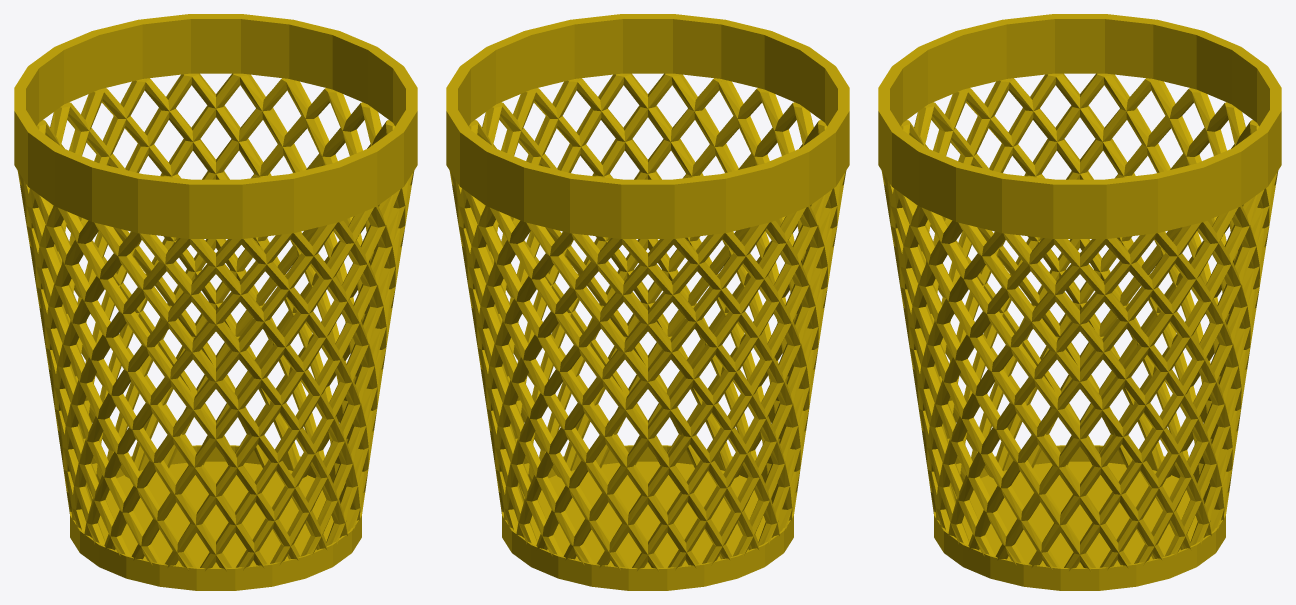
The picture shows the model from 3 angles, left to right: view 1: azimuth 30°, elevation 25°; view 2: azimuth 150°, elevation 25°; view 3: azimuth 270°, elevation 25°; orthographic projection.
Parts seen in each view (by area): view 1: mesh146.001_mesh146-geometry, mesh1.001_mesh1-geometry, mesh98.001_mesh98-geometry, mesh2.001_mesh2-geometry, mesh74.001_mesh74-geometry, mesh14.001_mesh14-geometry, mesh92.001_mesh92-geometry, mesh26.001_mesh26-geometry, mesh86.001_mesh86-geometry, mesh8.001_mesh8-geometry, mesh80.001_mesh80-geometry, mesh62.001_mesh62-geometry (+34 smaller); view 2: mesh146.001_mesh146-geometry, mesh1.001_mesh1-geometry, mesh39.001_mesh39-geometry, mesh135.001_mesh135-geometry, mesh33.001_mesh33-geometry, mesh117.001_mesh117-geometry, mesh69.001_mesh69-geometry, mesh81.001_mesh81-geometry, mesh128.001_mesh128-geometry, mesh21.001_mesh21-geometry, mesh122.001_mesh122-geometry, mesh27.001_mesh27-geometry (+34 smaller); view 3: mesh146.001_mesh146-geometry, mesh1.001_mesh1-geometry, mesh45.001_mesh45-geometry, mesh141.001_mesh141-geometry, mesh56.001_mesh56-geometry, mesh111.001_mesh111-geometry, mesh123.001_mesh123-geometry, mesh63.001_mesh63-geometry, mesh105.001_mesh105-geometry, mesh50.001_mesh50-geometry, mesh68.001_mesh68-geometry, mesh93.001_mesh93-geometry (+34 smaller).
Part boxes in pixels (<box>): mesh146.001_mesh146-geometry: <box>14,14,417,238</box>; mesh1.001_mesh1-geometry: <box>70,445,361,590</box>; mesh98.001_mesh98-geometry: <box>32,190,266,567</box>; mesh2.001_mesh2-geometry: <box>165,190,399,567</box>; mesh74.001_mesh74-geometry: <box>58,207,300,560</box>; mesh14.001_mesh14-geometry: <box>131,207,373,560</box>; mesh92.001_mesh92-geometry: <box>18,172,231,570</box>; mesh26.001_mesh26-geometry: <box>200,172,413,570</box>; mesh86.001_mesh86-geometry: <box>94,222,327,549</box>; mesh8.001_mesh8-geometry: <box>104,222,337,550</box>; mesh80.001_mesh80-geometry: <box>139,233,347,537</box>; mesh62.001_mesh62-geometry: <box>84,233,292,537</box>; mesh146.001_mesh146-geometry: <box>446,14,849,238</box>; mesh1.001_mesh1-geometry: <box>502,445,793,590</box>; mesh39.001_mesh39-geometry: <box>597,190,831,567</box>; mesh135.001_mesh135-geometry: <box>464,190,698,567</box>; mesh33.001_mesh33-geometry: <box>563,207,805,560</box>; mesh117.001_mesh117-geometry: <box>490,207,732,560</box>; mesh69.001_mesh69-geometry: <box>632,172,845,570</box>; mesh81.001_mesh81-geometry: <box>450,172,663,570</box>; mesh128.001_mesh128-geometry: <box>526,222,759,550</box>; mesh21.001_mesh21-geometry: <box>536,222,769,550</box>; mesh122.001_mesh122-geometry: <box>571,233,779,537</box>; mesh27.001_mesh27-geometry: <box>516,233,724,537</box>; mesh146.001_mesh146-geometry: <box>878,14,1281,238</box>; mesh1.001_mesh1-geometry: <box>934,445,1225,590</box>; mesh45.001_mesh45-geometry: <box>1029,190,1263,567</box>; mesh141.001_mesh141-geometry: <box>896,190,1130,567</box>; mesh56.001_mesh56-geometry: <box>995,207,1237,560</box>; mesh111.001_mesh111-geometry: <box>922,207,1164,560</box>; mesh123.001_mesh123-geometry: <box>882,172,1095,570</box>; mesh63.001_mesh63-geometry: <box>1064,172,1277,570</box>; mesh105.001_mesh105-geometry: <box>958,222,1191,550</box>; mesh50.001_mesh50-geometry: <box>968,222,1201,550</box>; mesh68.001_mesh68-geometry: <box>948,233,1156,537</box>; mesh93.001_mesh93-geometry: <box>1003,233,1211,537</box>.
Bounding box in the file's own units: 0.5438 × 0.6392 × 0.5438.
